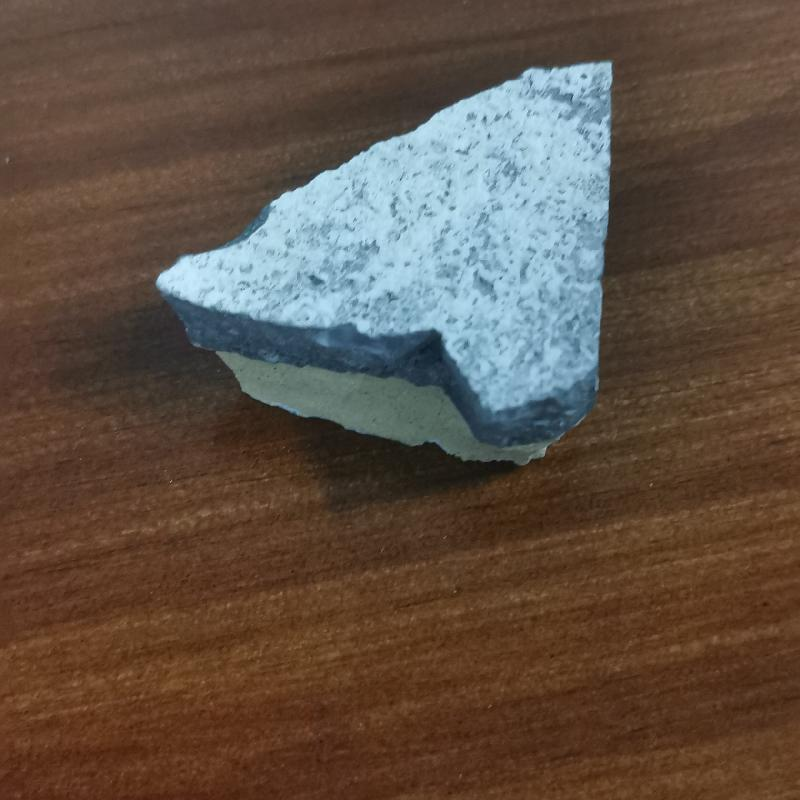tile: (154, 57, 618, 474)
